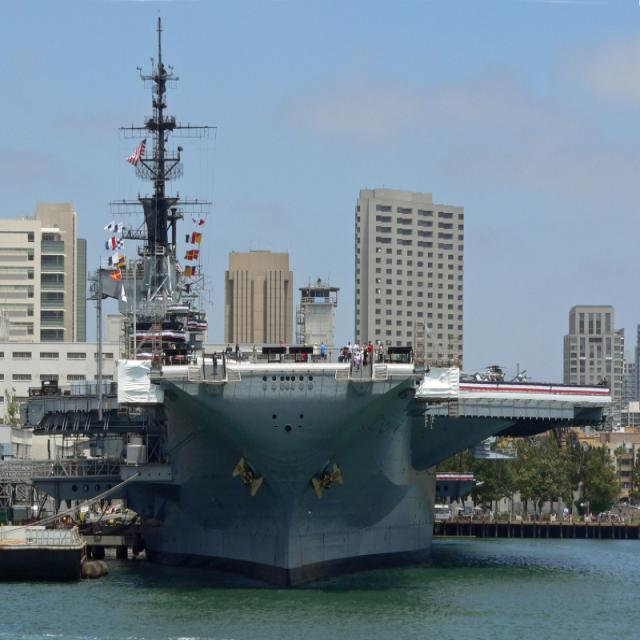Portanaves: (21, 14, 623, 586)
